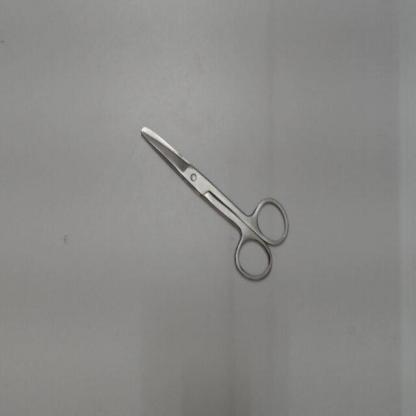Dressing Scissors: (127, 110, 297, 290)
